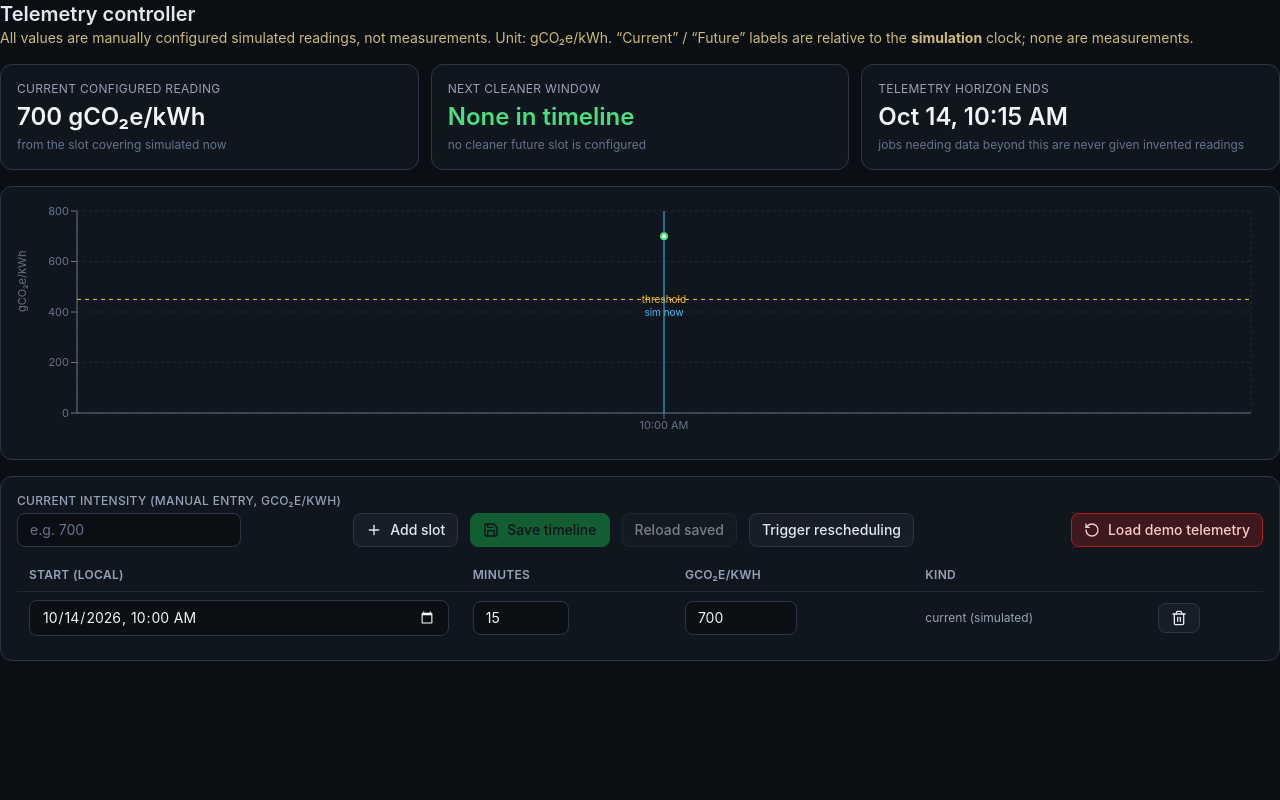
it: Telemetry page › asks for confirmation before loading the demo timeline
Expected: the field named "Slot 1 intensity" is shown, [685,601,797,635]
Step 1. Click the button "Load demo telemetry" → {"x": 1167, "y": 530}, box [1071,513,1263,547]
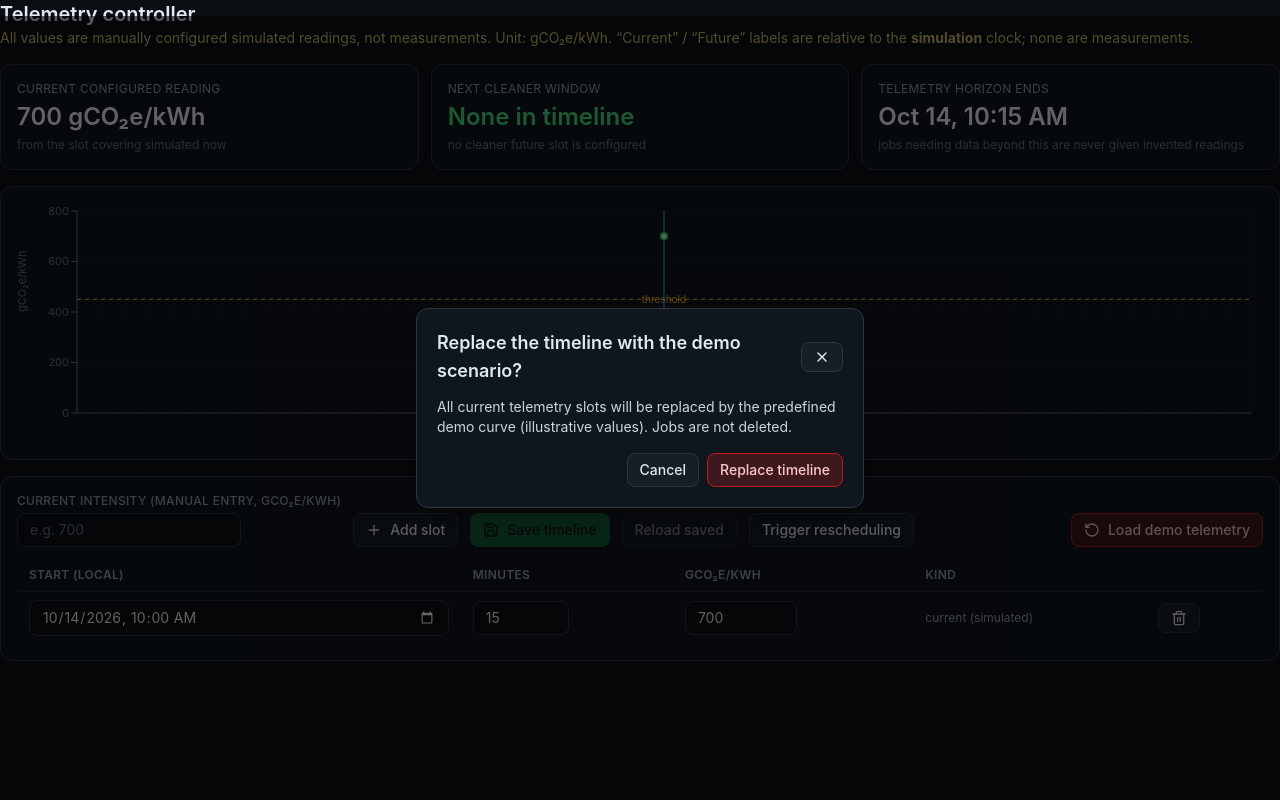
Expected: the dialog is shown, [416,308,864,508]
